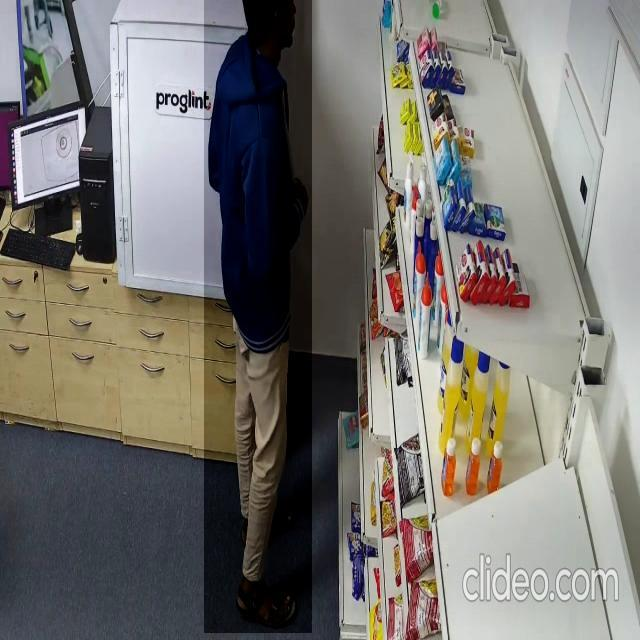Shoplifting: (204, 0, 312, 633)
